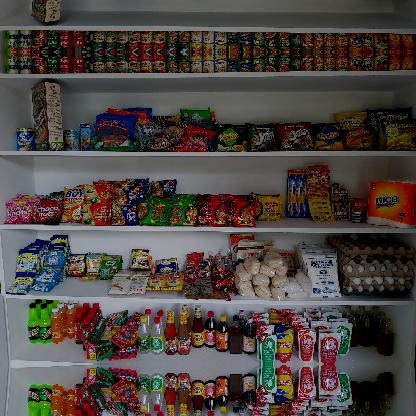Koko-Krunch: (31, 80, 65, 150), (31, 0, 66, 25)
